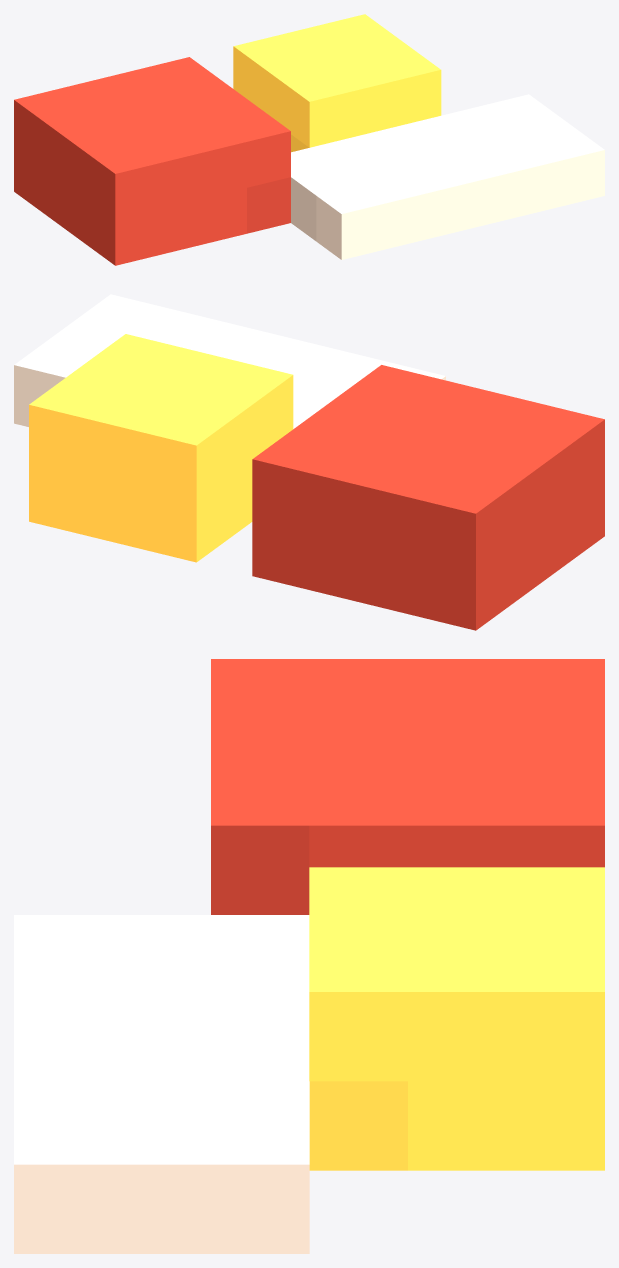
File: pouch.glb
The picture shows the model from 3 angles, top to bottom: view 1: azimuth 30°, elevation 25°; view 2: azimuth 150°, elevation 25°; view 3: azimuth 270°, elevation 25°; orthographic projection. The views are drawn at different scales.
Visible parts, largest first — view 1: root; view 2: root; view 3: root.
Part boxes in pixels (box(x1,y1,x2,y2)): root: box(14, 14, 604, 265); root: box(14, 294, 604, 630); root: box(14, 659, 604, 1253).
Bounding box in the file's own units: 0.16 × 0.032 × 0.096.
2 materials, 2 textured.
